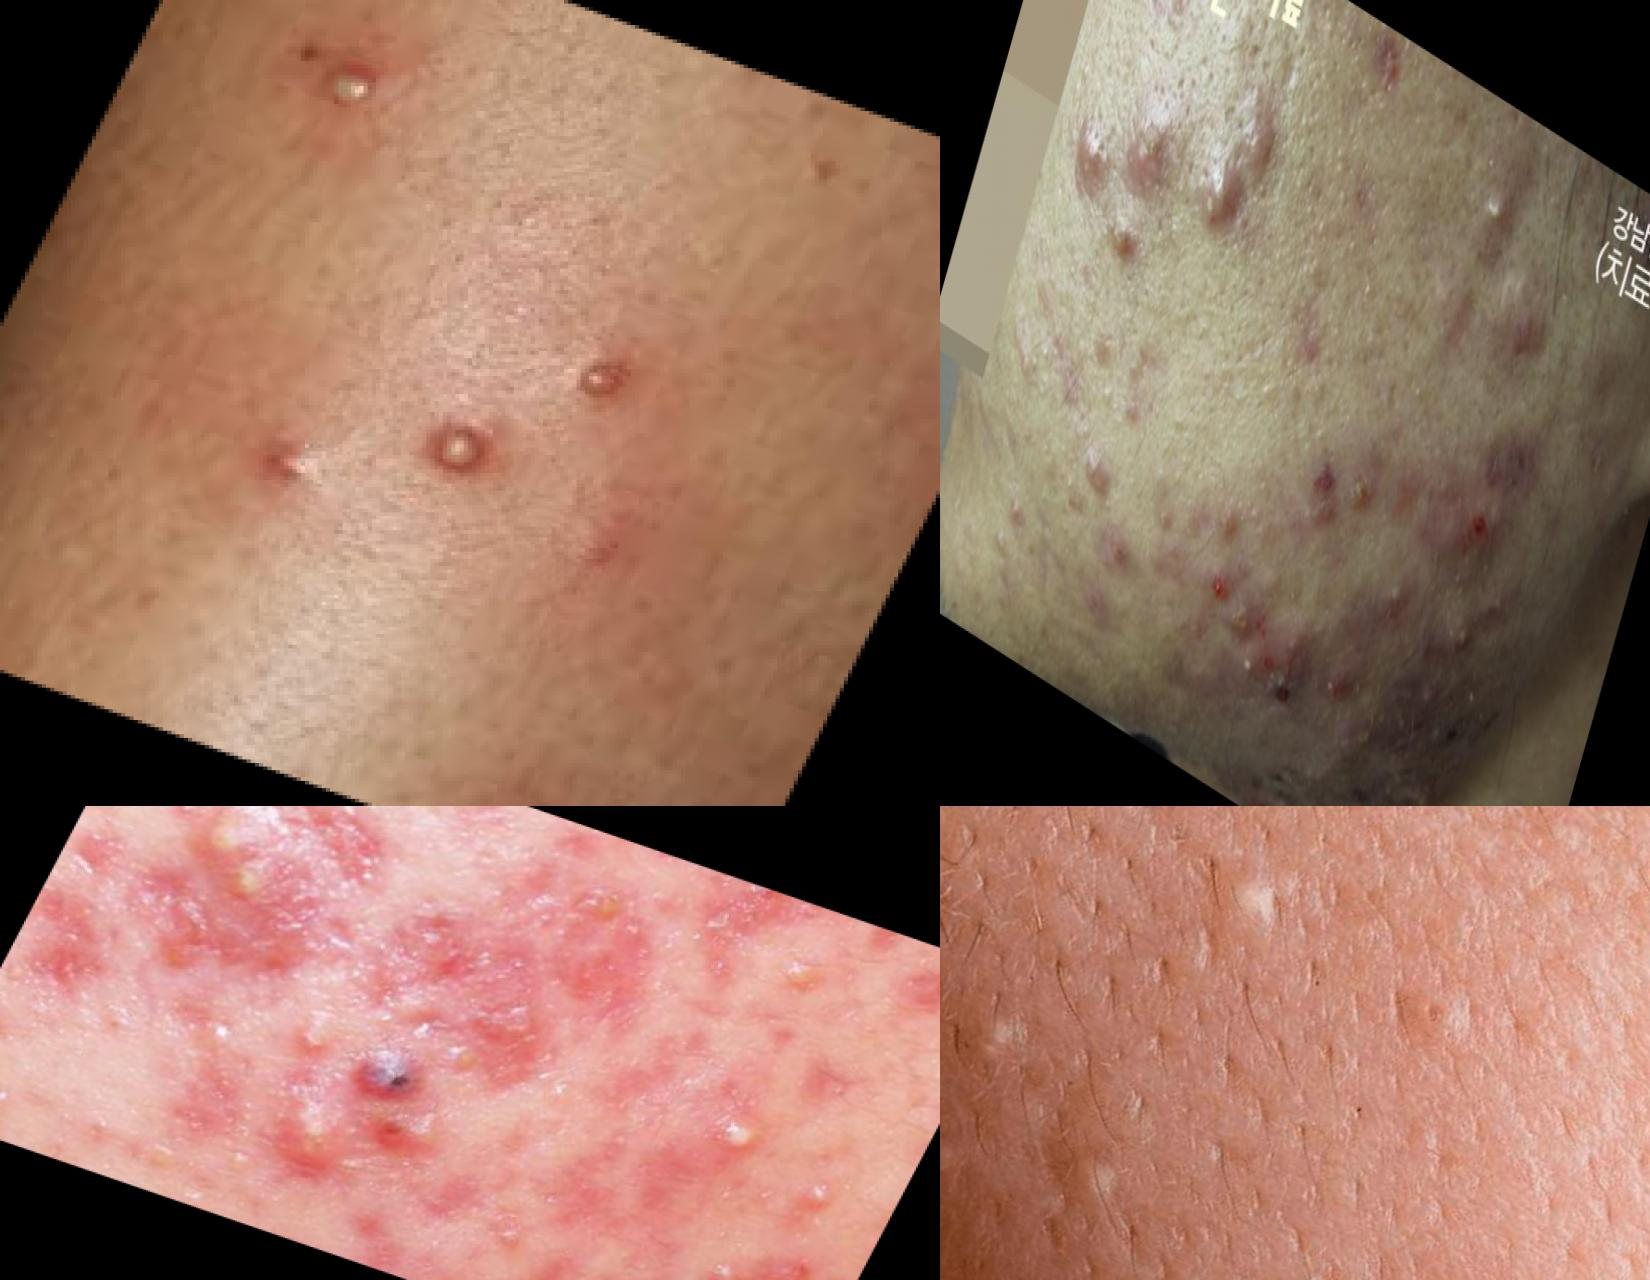acne_scars: (386, 928, 604, 1082), (141, 901, 323, 1014), (1, 874, 142, 1015), (554, 913, 684, 1048), (1351, 21, 1421, 147), (66, 807, 147, 892), (1300, 441, 1350, 530)
cystic: (1429, 466, 1515, 600), (1428, 611, 1491, 699)
folliculitis: (392, 394, 525, 507), (285, 29, 415, 145), (542, 336, 659, 424)
keloid: (763, 945, 846, 1011)
papular: (225, 411, 346, 519), (276, 1014, 346, 1070), (567, 882, 627, 939), (441, 1051, 481, 1089)
purulent: (699, 1109, 793, 1180), (1363, 560, 1418, 633), (214, 860, 280, 914), (197, 807, 265, 860), (1475, 177, 1519, 244), (1270, 613, 1312, 676), (696, 1249, 761, 1280)
sebo-crystan-conglo: (1183, 147, 1260, 262), (354, 1107, 467, 1180), (273, 1091, 350, 1181), (351, 1050, 445, 1114), (1213, 574, 1270, 664), (1370, 739, 1444, 807), (1071, 435, 1126, 524), (1124, 115, 1173, 194), (1100, 204, 1152, 274), (1066, 123, 1106, 197), (1, 1060, 42, 1130)
whitehead: (1196, 811, 1361, 993), (1034, 1133, 1162, 1275), (942, 968, 1053, 1114)
